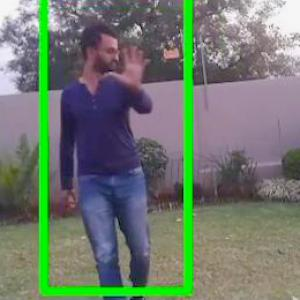follow_hand: (108, 42, 154, 88)
